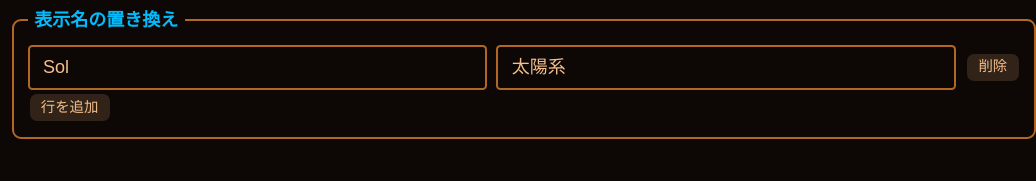
it: a failed save on a map surfaces the error
Click the button "削除": (993, 67) [965,52,1020,83]
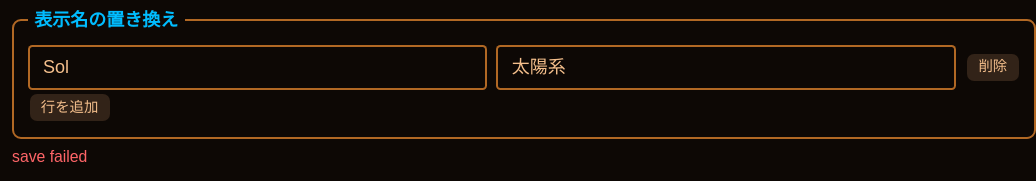
Expected: the text "save failed" is shown, [12,148,87,164]
